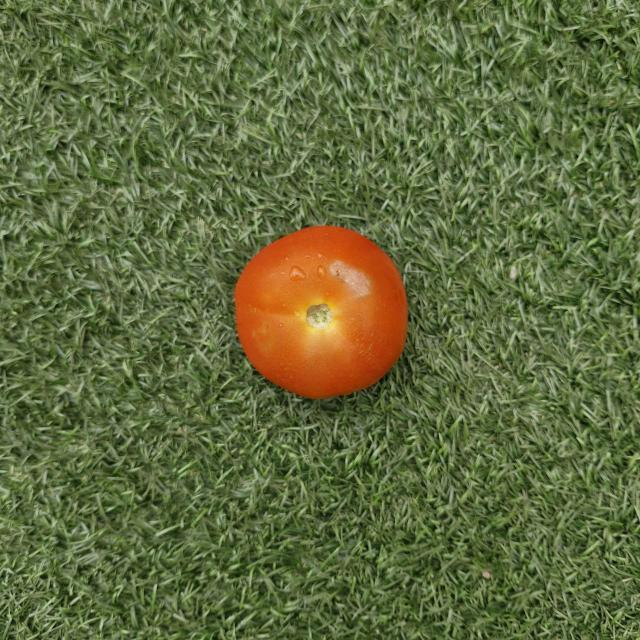food_waste: (233, 214, 417, 403)
